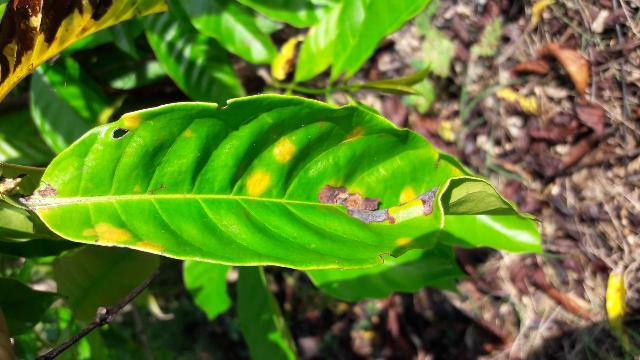rust_level_2: (28, 95, 528, 270)
